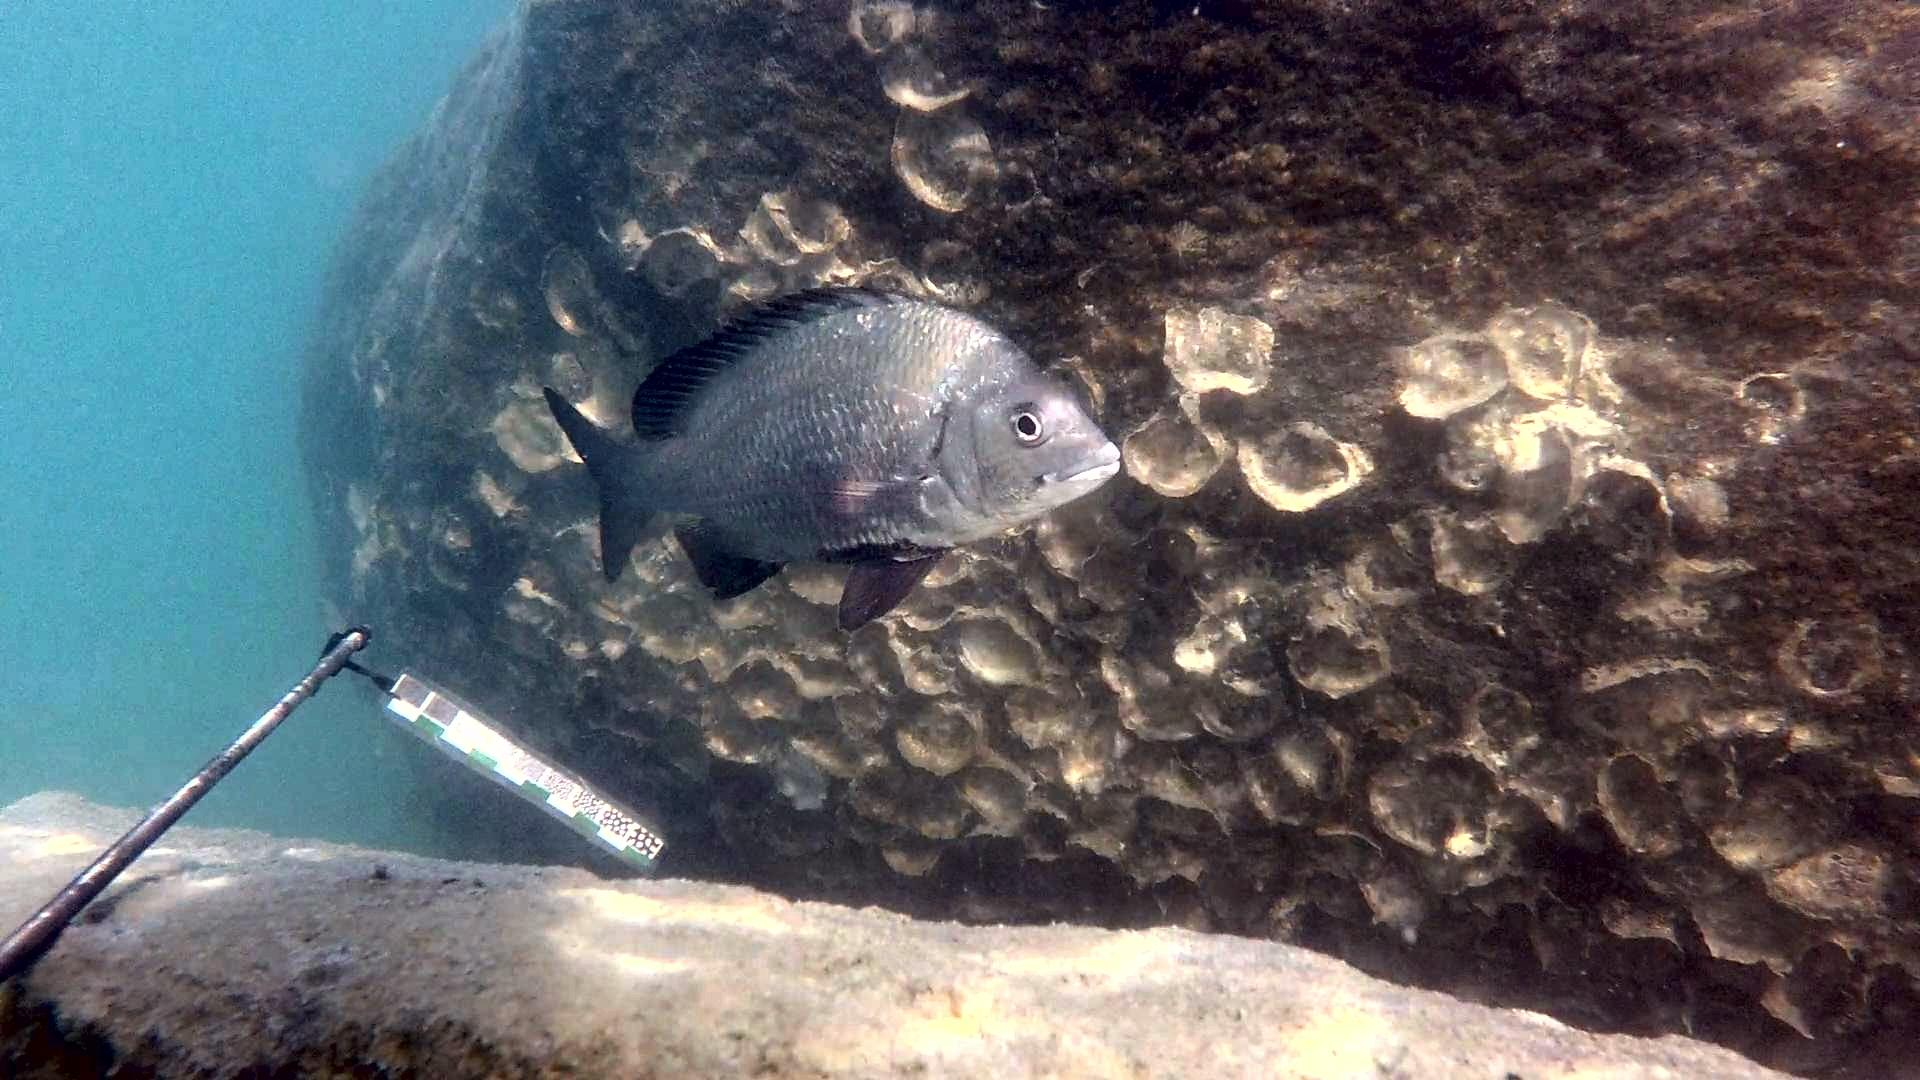acanthopagrus palmaris: (539, 275, 1130, 640)
